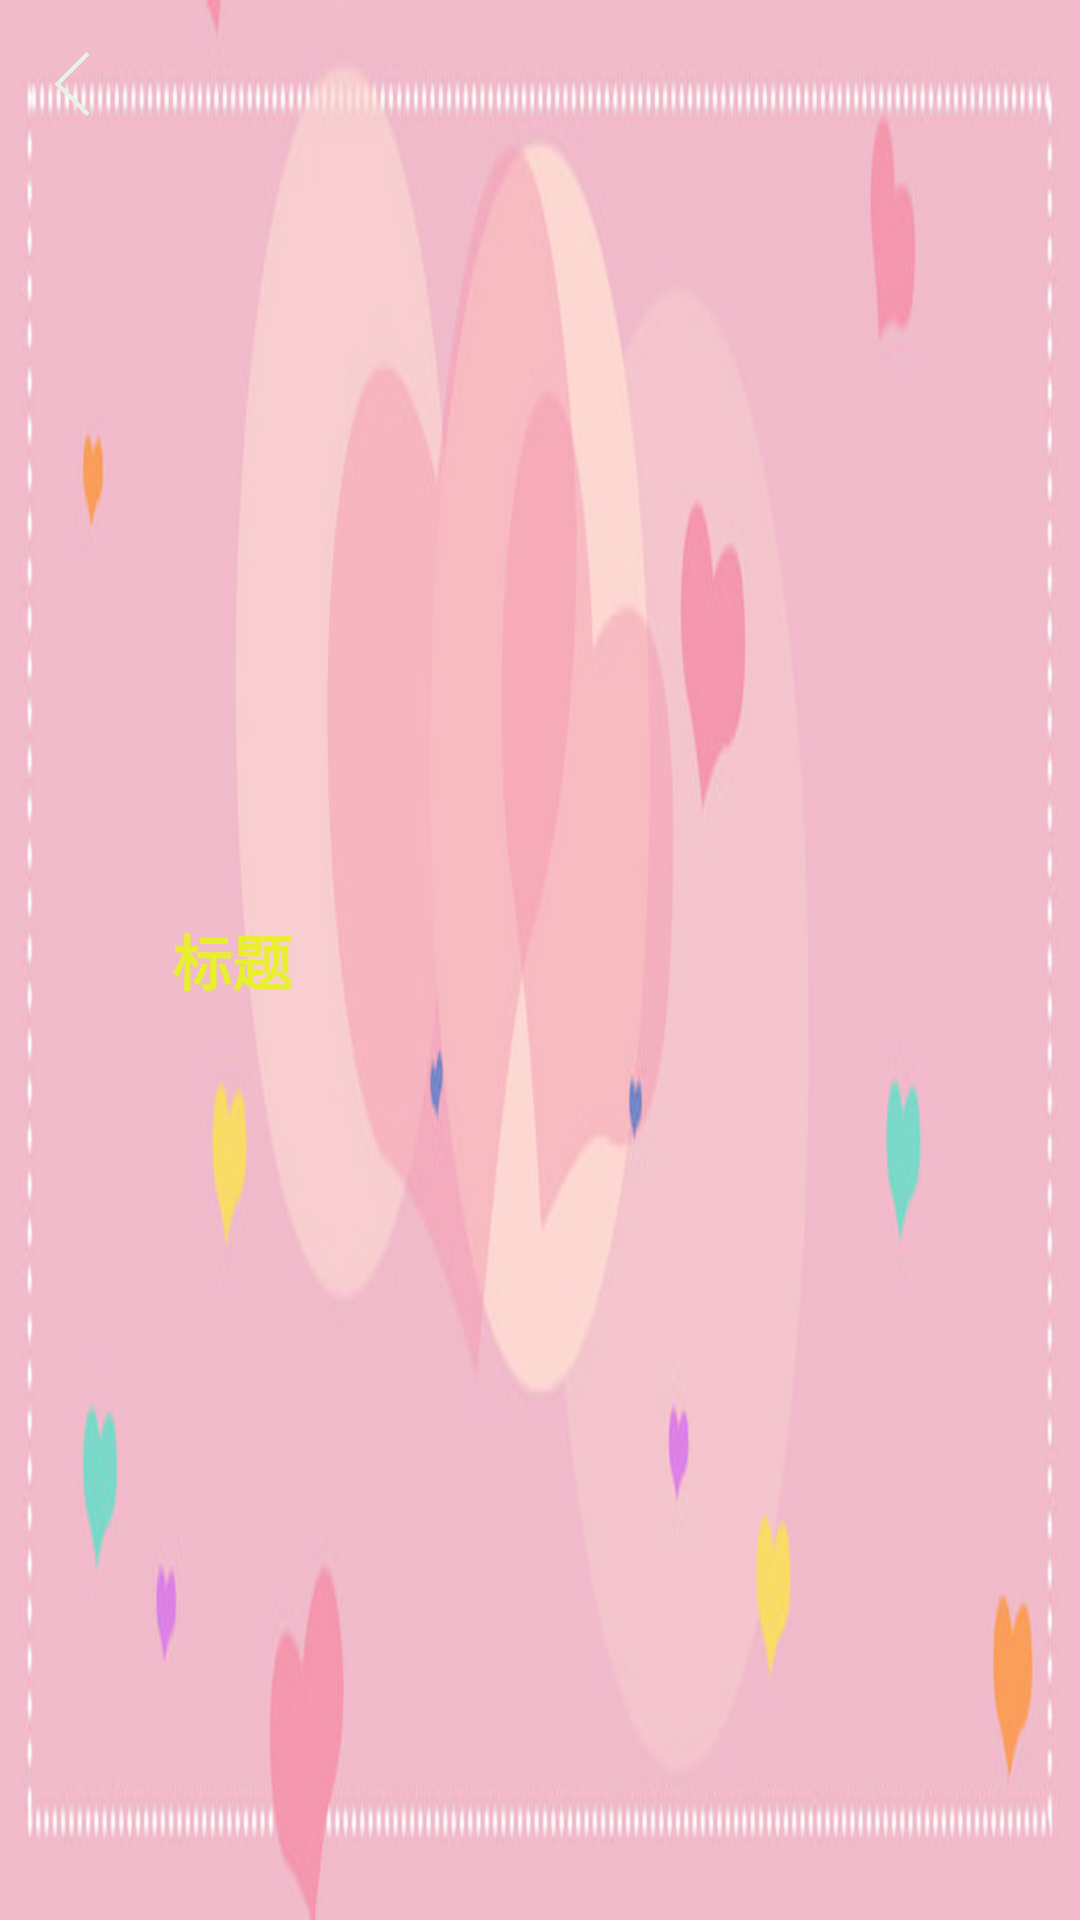

Where to tap for icons on this 1080 x 1920 app screen, as [x,y]:
back: [74,84]
